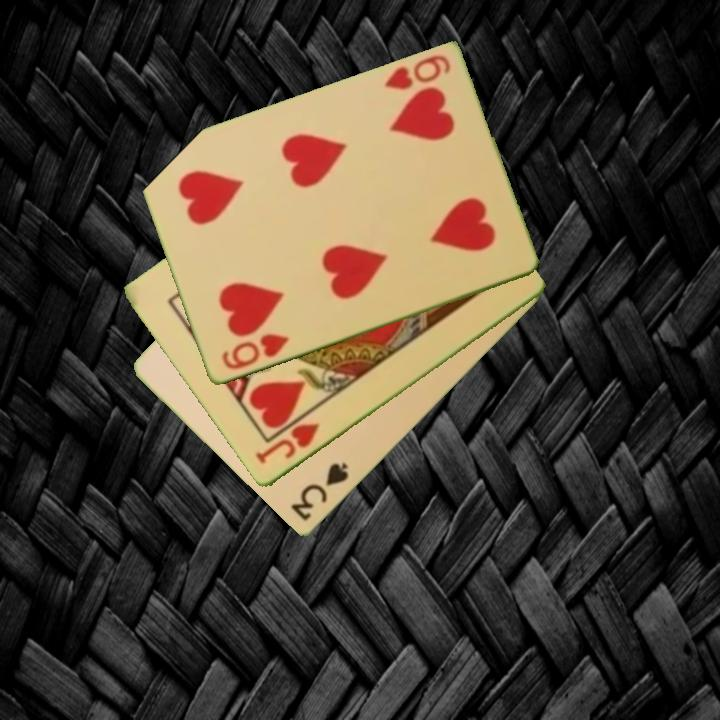3s: (287, 459, 352, 524)
6h: (217, 330, 292, 373), (381, 51, 454, 94)
Jh: (252, 419, 323, 468)
